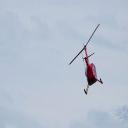helicopter: (58, 22, 92, 96)
